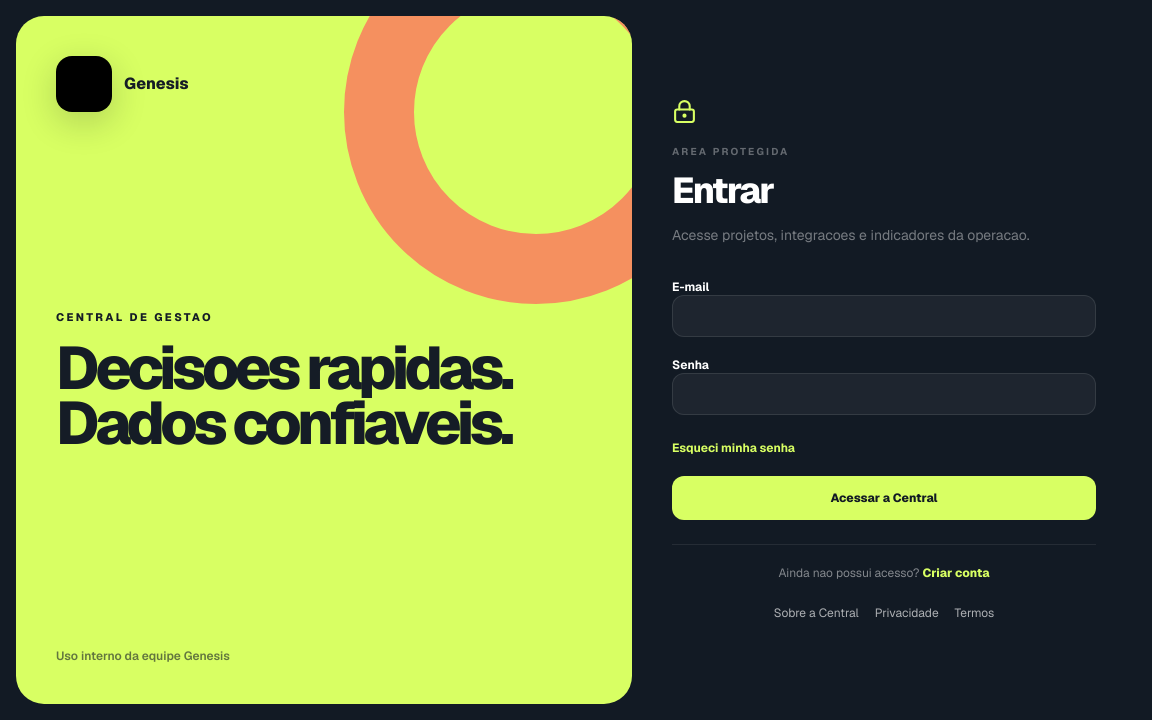
password recovery request › recovers the submit button after a network failure
This screenshot has width=1152, height=720.
Type "internal@example.com" into the field labelled "E-mail" at (884, 316), box [672, 295, 1096, 337]
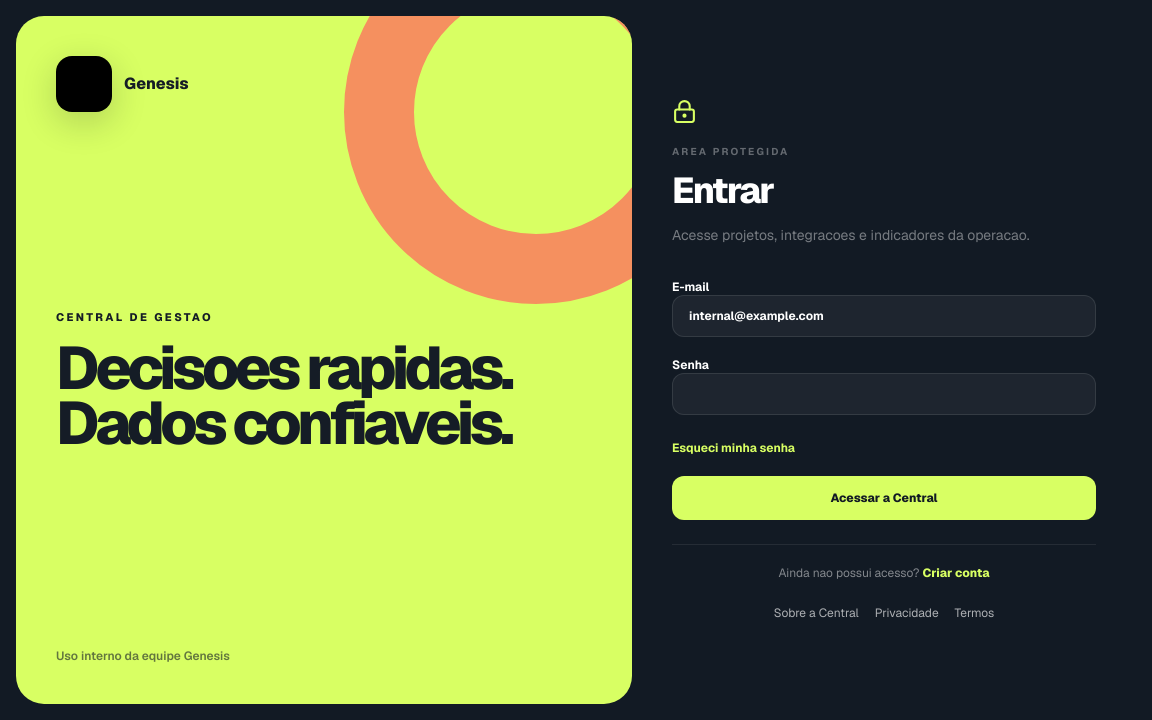
Click the button "Esqueci minha senha" at (734, 448), box [672, 440, 795, 456]
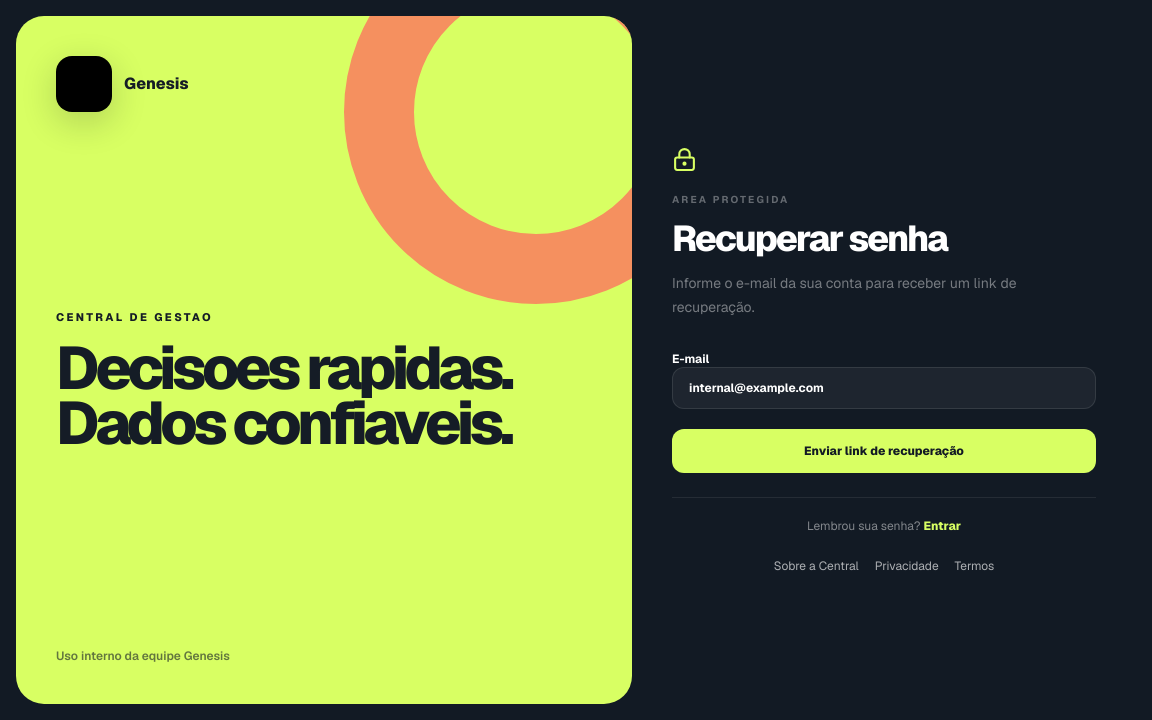
Click the button "Enviar link de recuperação" at (884, 450), box [672, 428, 1096, 472]
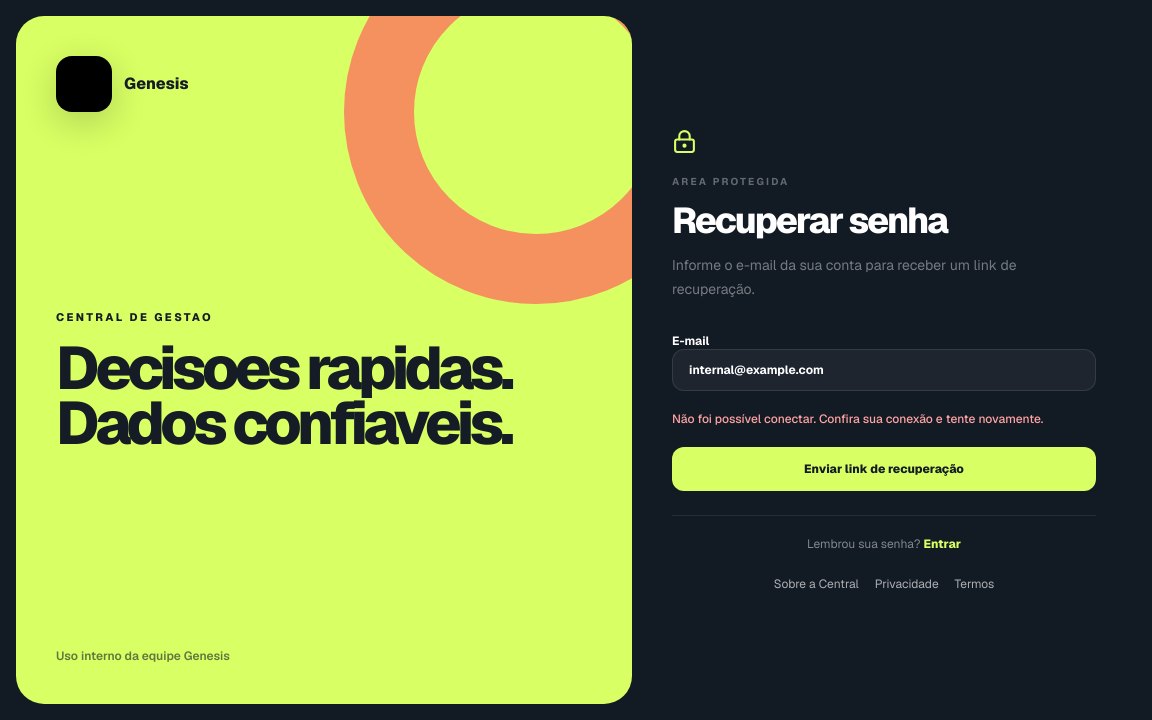
Expected: the button "Enviar link de recuperação" is enabled, [672, 446, 1096, 490]
Now the message "Não foi possível conectar. Confira sua conexão e tente novamente." is shown, box [672, 410, 1096, 426]
